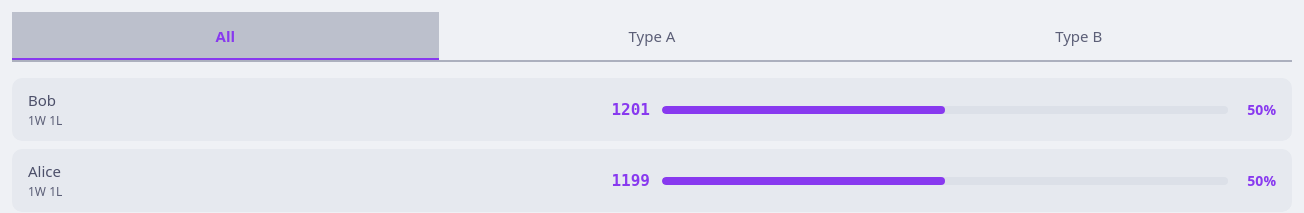
Test: StatsScreen › filtering by game type narrows the leaderboard to that game
Click the tab "Type A": (652, 36) [439,12,865,60]
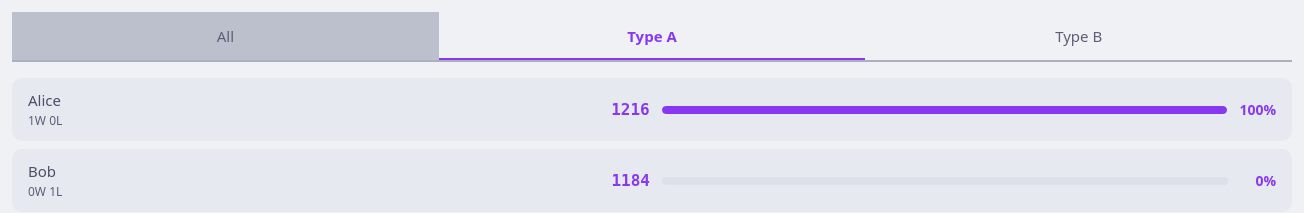
Result: the text "1W 0L" is shown at [28,112,62,129]
